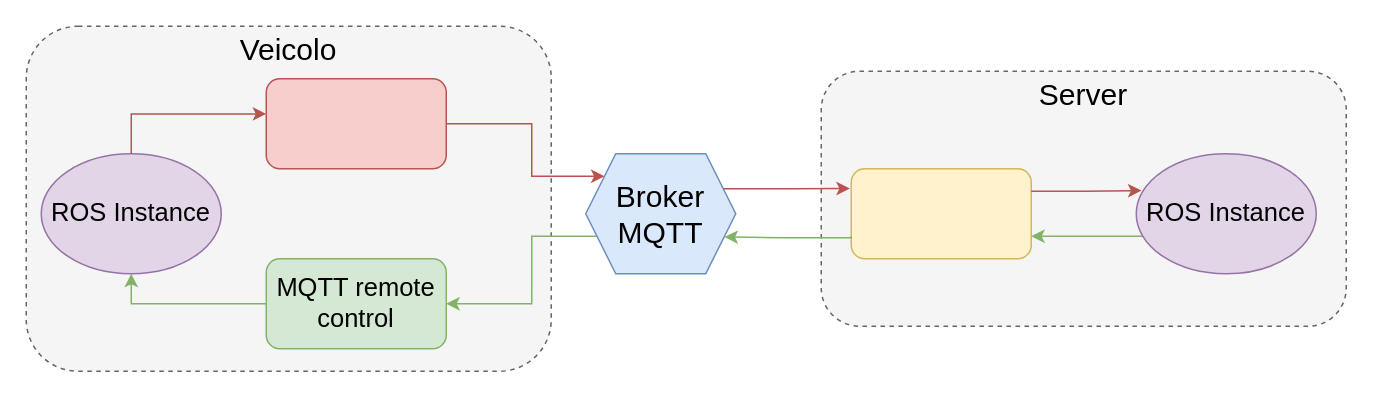
This 1373x398 diagram has some shape labels left out. The box of each missing label's shape, as (x1, y1, x2, y2) in pixels:
MQTT server node: (850, 167, 1031, 259)
MQTT Telemetry node: (265, 77, 446, 169)
